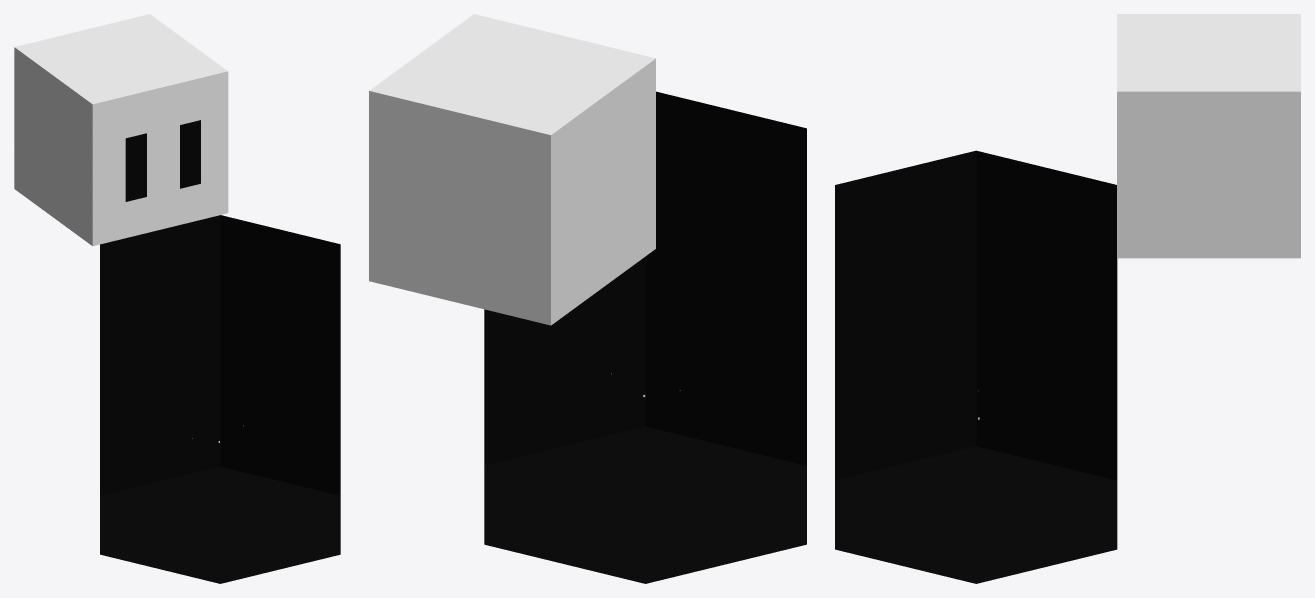
File: tensi-ana.glb
3 renders of one model, left to right at view 1: azimuth 30°, elevation 25°; view 2: azimuth 150°, elevation 25°; view 3: azimuth 270°, elevation 25°, orthographic. The views are drawn at different scales.
Parts seen in each view (by area): view 1: haco_ana2:pCylinder1, haco_ana2:pCube1, haco_ana2:pPlane1, haco_ana2:pPlane2; view 2: haco_ana2:pCylinder1, haco_ana2:pCube1; view 3: haco_ana2:pCylinder1, haco_ana2:pCube1.
Boxes of the visible parts, x1,y1,x2,y2 form: haco_ana2:pCylinder1: [100, 215, 340, 583]; haco_ana2:pCube1: [14, 14, 228, 246]; haco_ana2:pPlane1: [125, 133, 146, 201]; haco_ana2:pPlane2: [180, 120, 200, 188]; haco_ana2:pCylinder1: [484, 91, 806, 583]; haco_ana2:pCube1: [369, 14, 655, 325]; haco_ana2:pCylinder1: [835, 150, 1117, 583]; haco_ana2:pCube1: [1117, 14, 1300, 258].
Size of the model in its own units: 0.0887 by 0.1387 by 0.1267.
5 materials, 4 textured.
